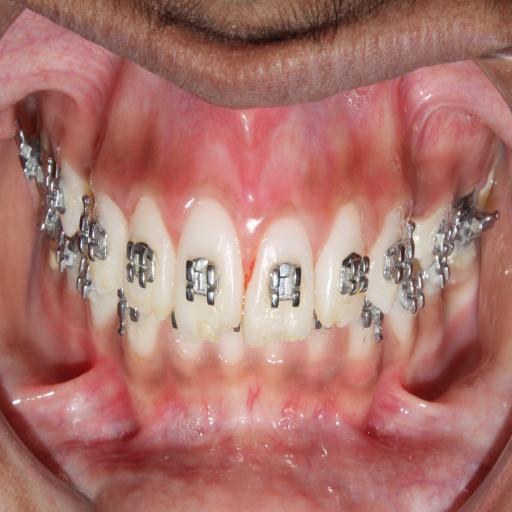correct_brace: (266, 255, 306, 315), (182, 252, 219, 310), (334, 244, 371, 300), (124, 237, 156, 294), (382, 233, 415, 288), (79, 209, 110, 265)
incorrect_brace: (315, 214, 369, 330), (120, 195, 173, 304)
